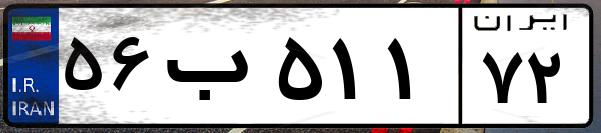1: (385, 28, 445, 110), (330, 28, 385, 110)
2: (525, 38, 570, 115)
5: (270, 28, 330, 110), (57, 26, 110, 100)
6: (110, 28, 158, 98)
7: (475, 38, 525, 113)
ب: (158, 20, 270, 120)
